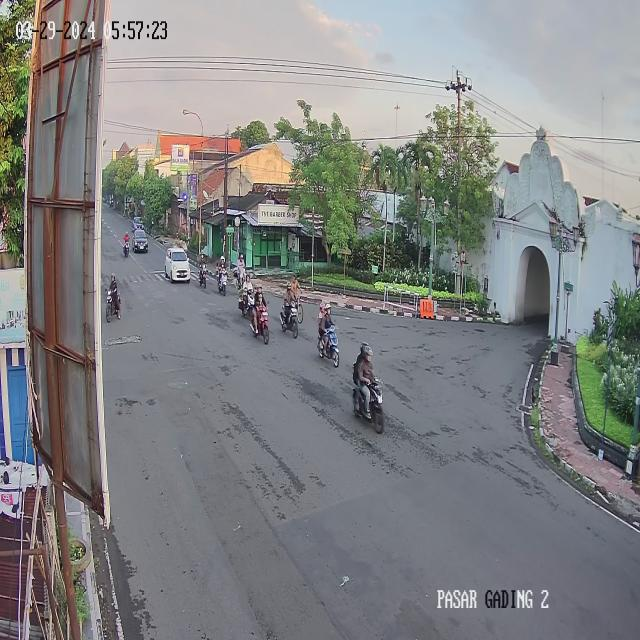car: (164, 248, 191, 284), (132, 229, 149, 254), (132, 217, 144, 233)
motorcycle: (352, 341, 384, 436), (317, 301, 340, 368), (249, 282, 270, 345), (278, 280, 299, 340), (237, 271, 256, 322), (105, 272, 122, 323), (216, 255, 228, 297), (198, 251, 208, 290), (123, 230, 130, 259)
